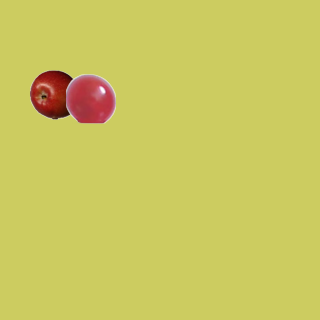Apple Braeburn: (29, 69, 79, 119)
Redcurrant: (65, 73, 115, 123)
